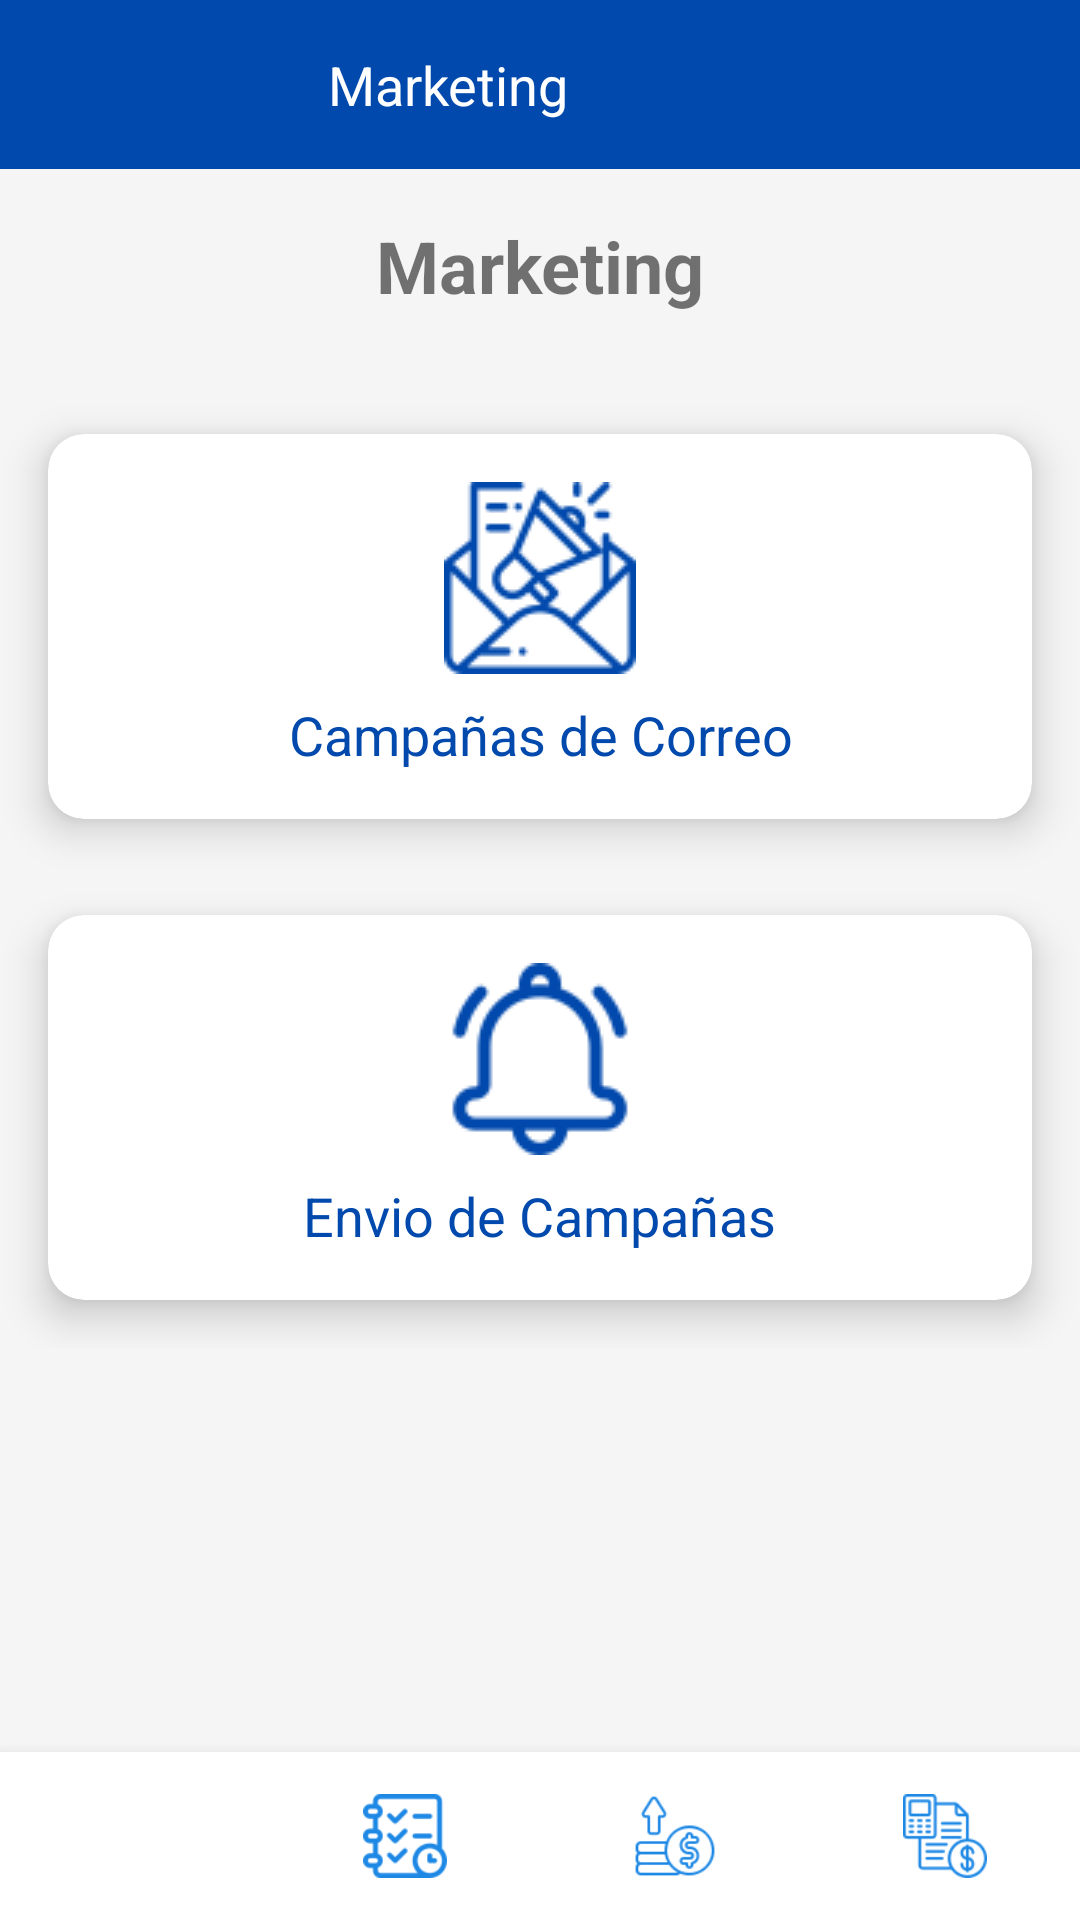

Point at icon controls on the screen. Image size 1080px×1920px, points as (x=x, y=y).
email: (x=540, y=578)
notificacion: (x=540, y=1059)
